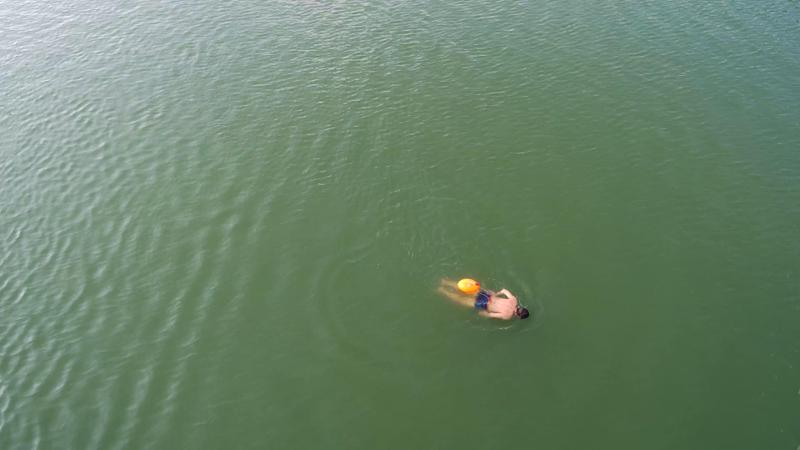swimmers: (438, 277, 529, 320)
